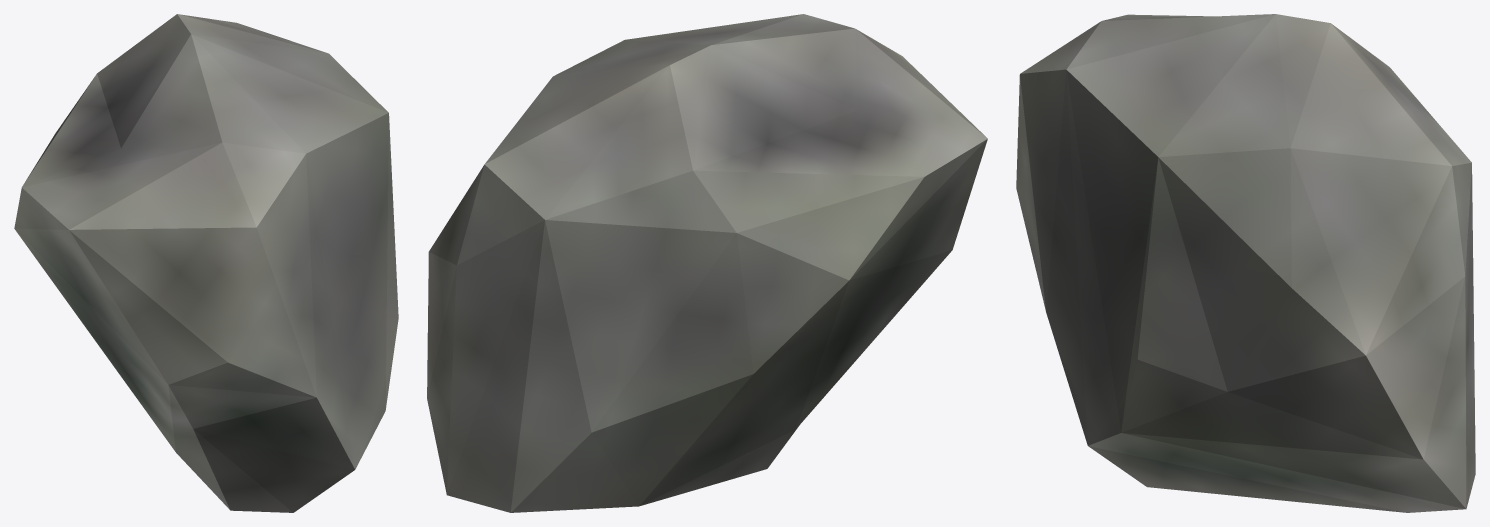
Rendered from rock_01.obj.
3 renders of one model, left to right at view 1: azimuth 30°, elevation 25°; view 2: azimuth 150°, elevation 25°; view 3: azimuth 270°, elevation 25°, orthographic. The views are drawn at different scales.
Bounding box in the file's own units: 0.0215 × 0.0215 × 0.0198.
Materials: 1 (1 with a texture image).
